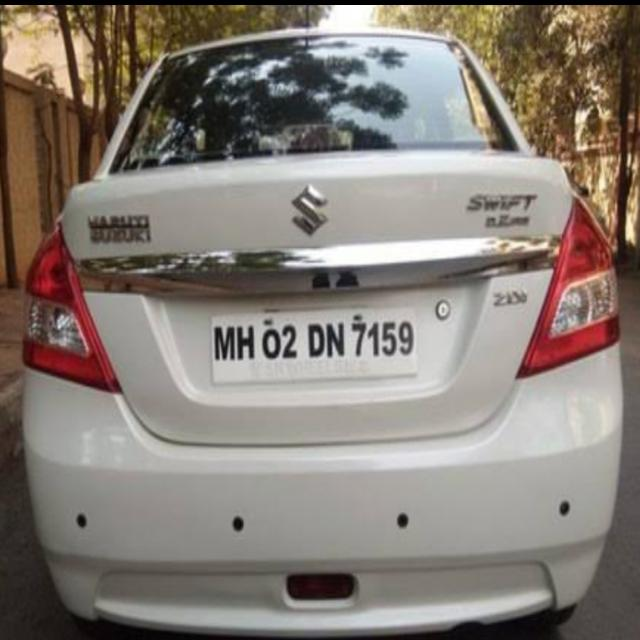Number-Plate: (210, 304, 425, 380)
